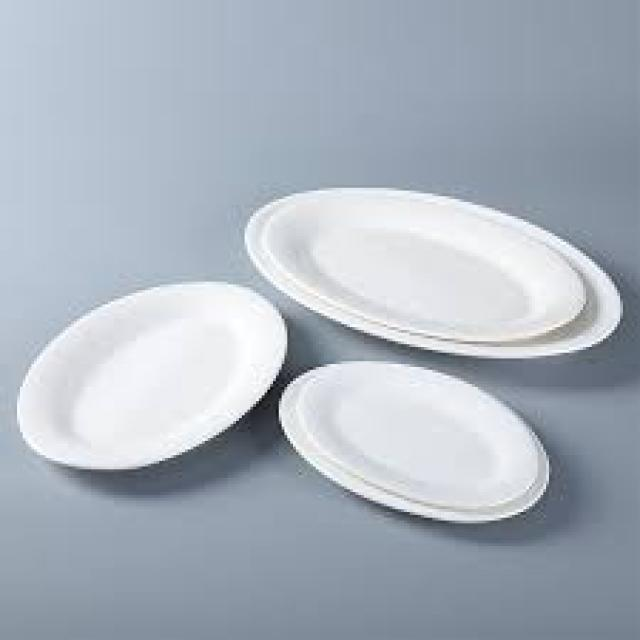Plate: (243, 182, 633, 374), (13, 274, 283, 480), (292, 354, 557, 549)
